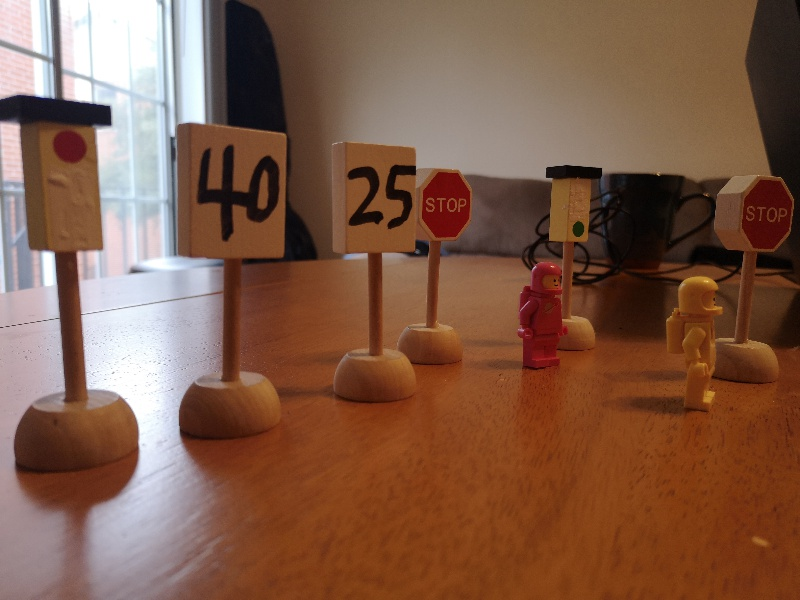Green Traffic Light: (543, 165, 603, 244)
Person: (667, 273, 727, 415), (516, 263, 569, 370)
Red Traffic Light: (1, 96, 113, 254)
Speed Limit 25: (329, 142, 417, 255)
Speed Limit 40: (177, 122, 289, 263)
Stop Sign: (712, 174, 795, 254), (416, 167, 474, 243)
